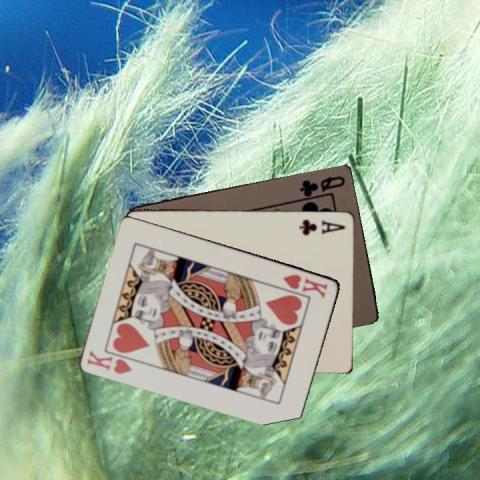Ac: (296, 216, 346, 235)
Kh: (84, 347, 134, 375), (280, 271, 329, 299)
Qc: (296, 172, 346, 197)
